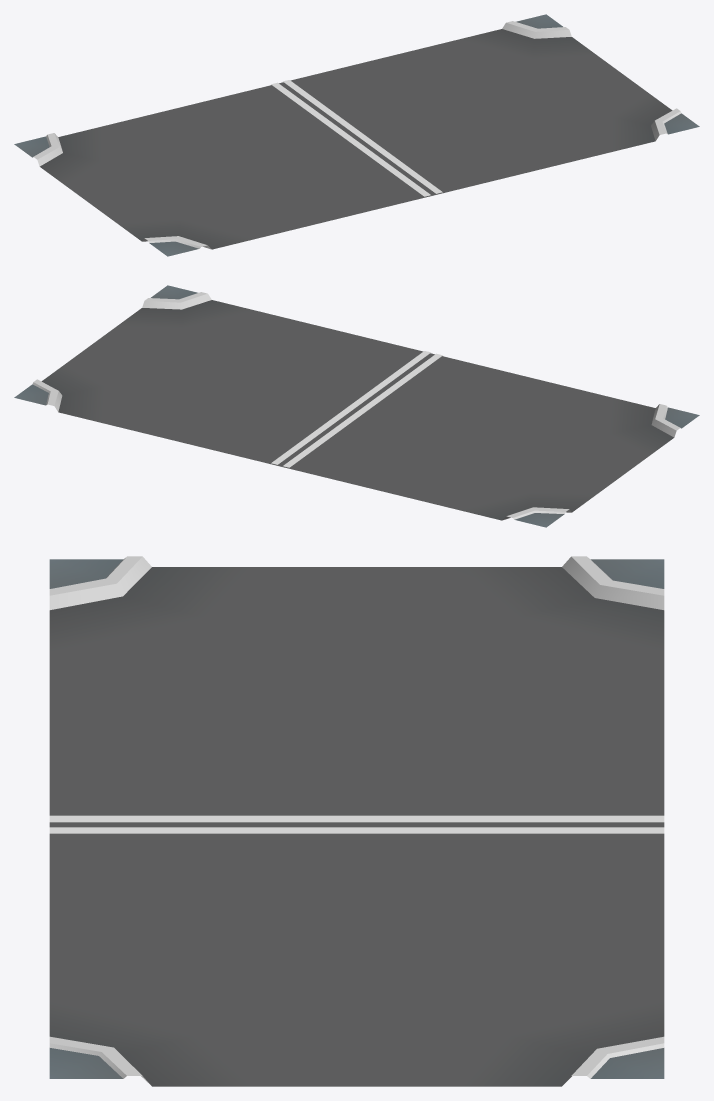
Rendered from OnewayRoad02.fbx.
3 views of the same model, one above another, from view 1: azimuth 30°, elevation 25°; view 2: azimuth 150°, elevation 25°; view 3: azimuth 270°, elevation 25° (orthographic). The views are drawn at different scales.
Visible parts, largest first — view 1: SRoad02.002; view 2: SRoad02.002; view 3: SRoad02.002.
Boxes of the visible parts, bbox=[...] form: SRoad02.002: bbox=[14, 14, 699, 256]; SRoad02.002: bbox=[14, 285, 699, 527]; SRoad02.002: bbox=[49, 556, 664, 1086].
Size of the model in its own units: 6 by 0.057 by 3.
